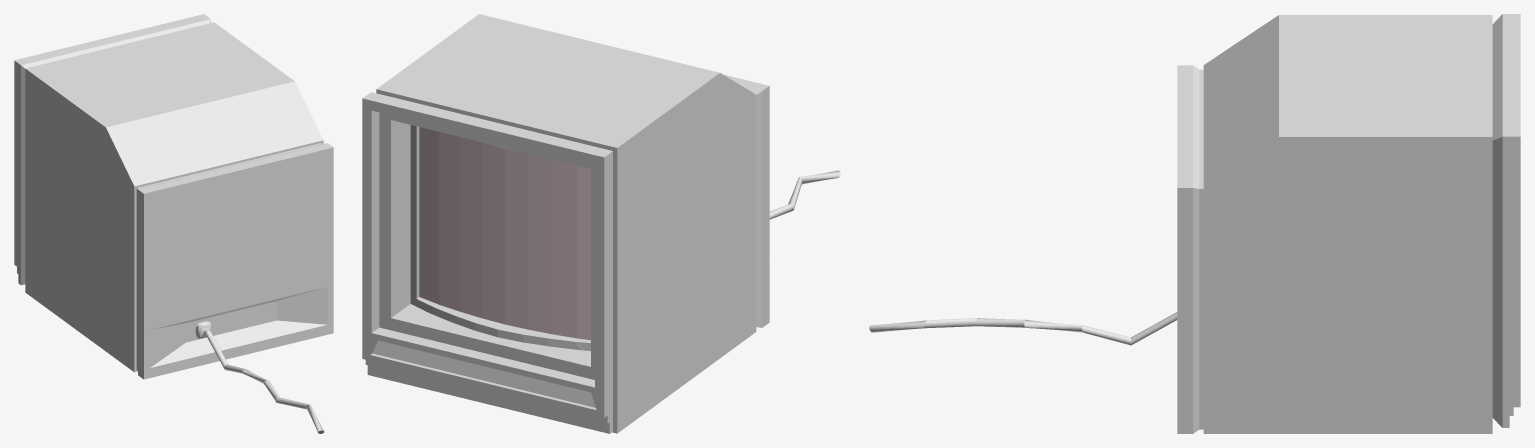
File: television.fbx
The picture shows the model from 3 angles, left to right: view 1: azimuth 30°, elevation 25°; view 2: azimuth 150°, elevation 25°; view 3: azimuth 270°, elevation 25°; orthographic projection. The views are drawn at different scales.
Parts seen in each view (by area): view 1: Cube; view 2: Cube; view 3: Cube, Cylinder.
Part boxes in pixels (x1,y1,x2,y2): Cube: [14, 14, 333, 433]; Cube: [362, 14, 840, 433]; Cube: [869, 14, 1520, 433]; Cylinder: [870, 318, 1177, 345].
Bounding box in the file's own units: 201 × 227 × 451.
